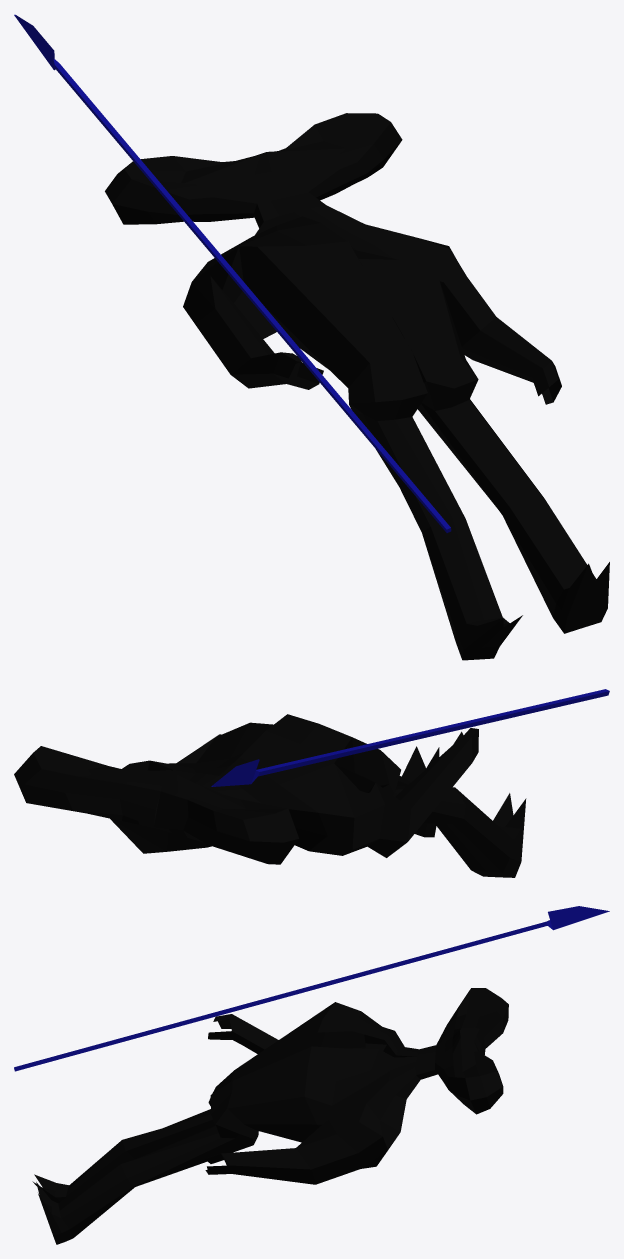
File: Spearman2d.obj
3 renders of one model, top to bottom at view 1: azimuth 30°, elevation 25°; view 2: azimuth 150°, elevation 25°; view 3: azimuth 270°, elevation 25°, orthographic. The views are drawn at different scales.
Parts seen in each view (by area): view 1: Cube; view 2: Cube; view 3: Cube.
Boxes of the visible parts, bbox=[...] form: Cube: bbox=[14, 14, 609, 660]; Cube: bbox=[14, 689, 609, 877]; Cube: bbox=[14, 906, 609, 1244].
Bounding box in the file's own units: 9.95 × 12.82 × 24.42.
